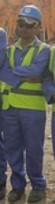hat: (15, 1, 52, 42)
vest: (1, 40, 55, 115)
